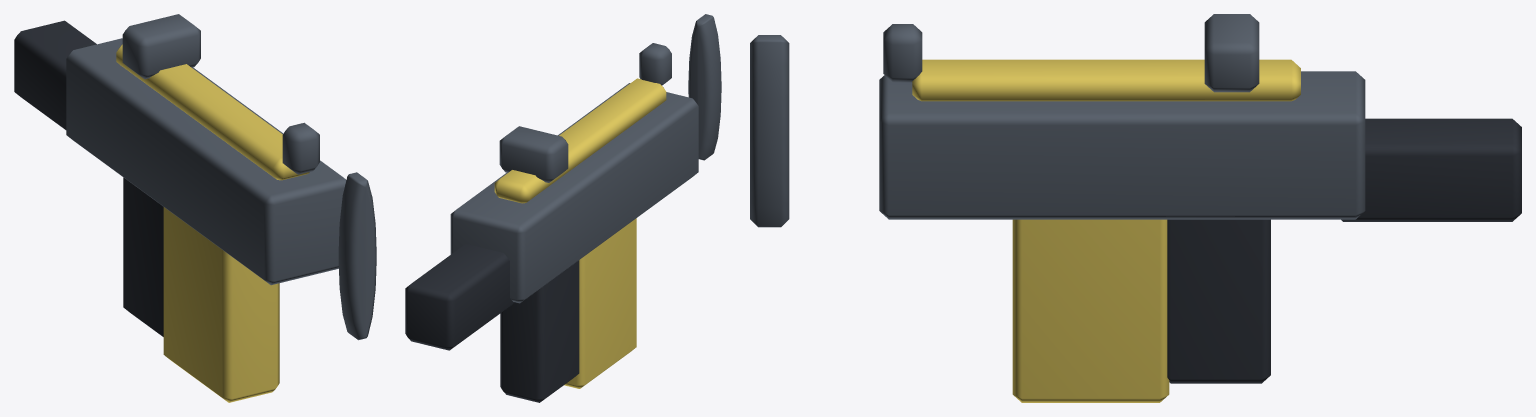
Rendered from Ammo2gun.fbx.
3 views of the same model, side by side, from view 1: azimuth 30°, elevation 25°; view 2: azimuth 150°, elevation 25°; view 3: azimuth 270°, elevation 25° (orthographic). The views are drawn at different scales.
Parts seen in each view (by area): view 1: Receiver, Magazine, TopRail, Barrel, Grip, Stock, SightRear, SightFront; view 2: Receiver, Grip, Stock, Magazine, TopRail, Barrel, SightRear, SightFront; view 3: Receiver, Magazine, Grip, Stock, TopRail, Barrel, SightRear, SightFront.
Boxes of the visible parts, x1,y1,x2,y2 form: Receiver: (66,38,346,285); Magazine: (163,207,279,402); TopRail: (116,44,309,180); Barrel: (338,172,376,340); Grip: (123,177,163,336); Stock: (14,20,96,129); SightRear: (122,14,200,79); SightFront: (282,122,319,174); Receiver: (450,83,698,303); Grip: (500,260,579,402); Stock: (405,244,514,350); Magazine: (564,218,636,388); TopRail: (494,78,666,203); Barrel: (688,14,721,160); SightRear: (499,126,568,182); SightFront: (639,43,671,85); Receiver: (879,71,1365,219); Magazine: (1012,219,1169,402); Grip: (1167,219,1270,383); Stock: (1341,118,1521,221); TopRail: (912,59,1300,101); Barrel: (750,35,789,227); SightRear: (1204,14,1259,92); SightFront: (883,24,922,82).
Bounding box in the file's own units: 15 × 51 × 98.5.
